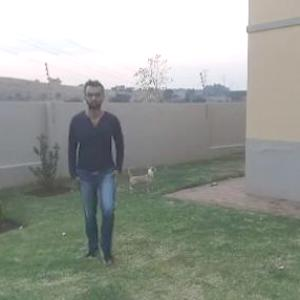follow: (72, 81, 126, 243)
